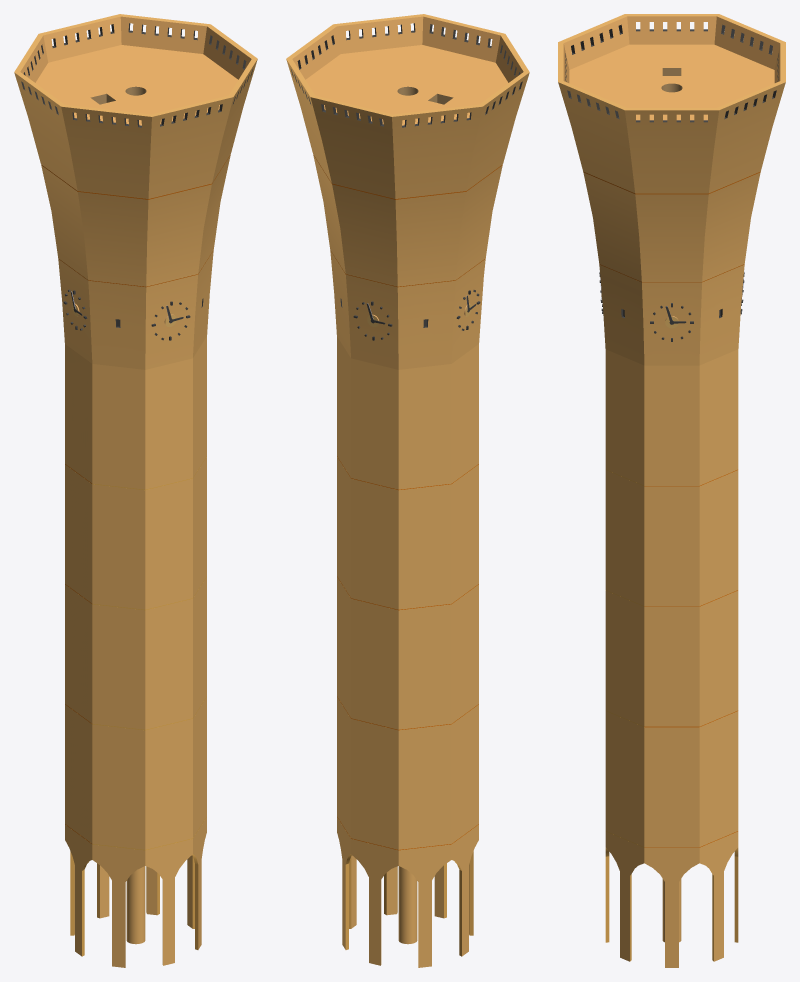
File: kfupm_tower.gltf
3 views of the same model, side by side, from view 1: azimuth 30°, elevation 25°; view 2: azimuth 150°, elevation 25°; view 3: azimuth 270°, elevation 25° (orthographic).
Visible parts, largest first — view 1: color-6, color-11, color-8, color, color-9; view 2: color-6, color-11, color-8, color, color-10; view 3: color-6, color-11, color, color-8.
Part boxes in pixels (x1=…): color-6: x1=14, y1=14, x2=257, y2=967; color-11: x1=20, y1=16, x2=251, y2=125; color-8: x1=70, y1=851, x2=198, y2=964; color: x1=21, y1=23, x2=252, y2=340; color-9: x1=92, y1=456, x2=206, y2=850; color-6: x1=286, y1=14, x2=529, y2=967; color-11: x1=292, y1=16, x2=523, y2=125; color-8: x1=345, y1=851, x2=473, y2=964; color: x1=291, y1=23, x2=522, y2=340; color-10: x1=337, y1=456, x2=478, y2=850; color-6: x1=558, y1=14, x2=785, y2=967; color-11: x1=563, y1=16, x2=780, y2=120; color: x1=565, y1=24, x2=778, y2=341; color-8: x1=605, y1=847, x2=738, y2=961.
Size of the model in its own units: 12 by 51 by 12.
